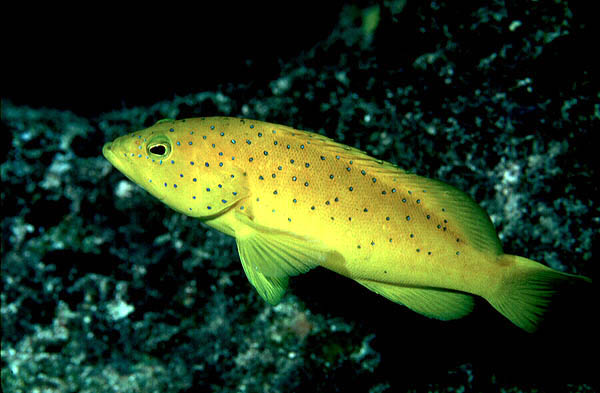Cephalopholis_fulvaw: (81, 90, 586, 348)
